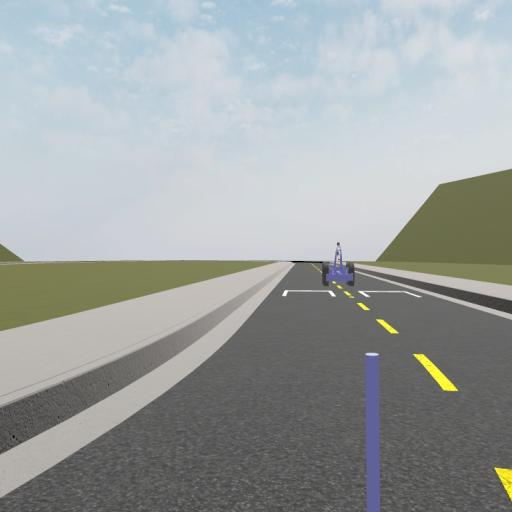ERP-42: (321, 243, 355, 286)
